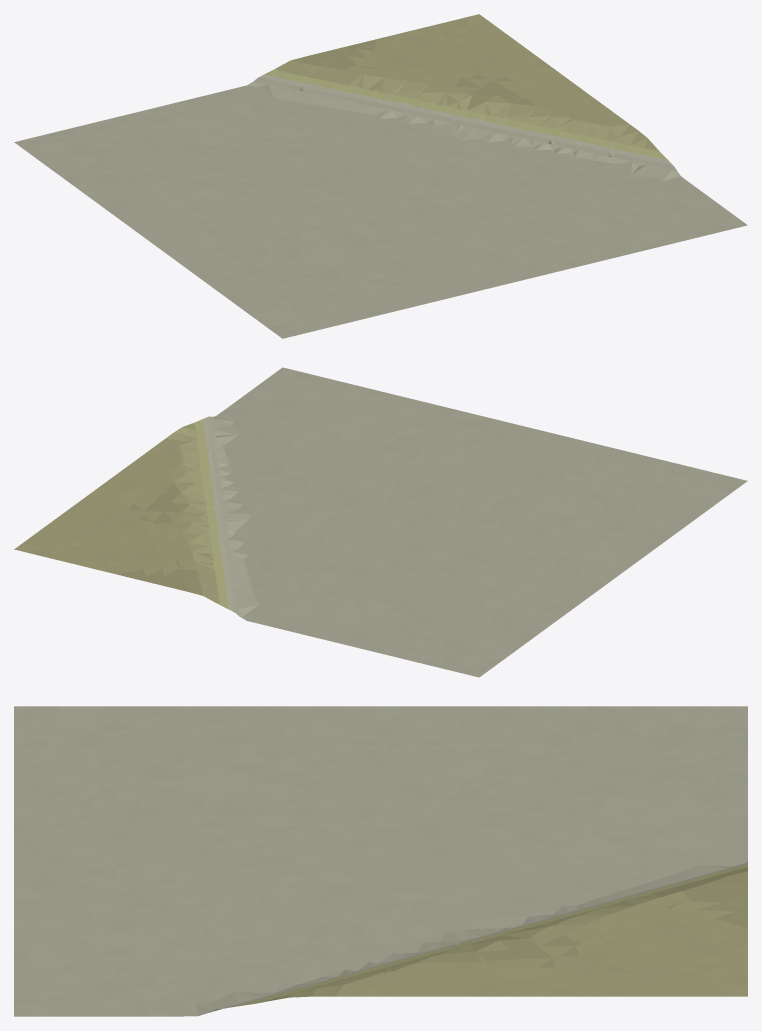
The model's file is Ground_-5_-5.glb.
3 renders of one model, top to bottom at view 1: azimuth 30°, elevation 25°; view 2: azimuth 150°, elevation 25°; view 3: azimuth 270°, elevation 25°, orthographic. The views are drawn at different scales.
Parts seen in each view (by area): view 1: Ground_-5_-5; view 2: Ground_-5_-5; view 3: Ground_-5_-5.
Boxes of the visible parts, x1,y1,x2,y2 form: Ground_-5_-5: (14, 14, 747, 338); Ground_-5_-5: (14, 367, 747, 677); Ground_-5_-5: (14, 706, 747, 1016).
Bounding box in the file's own units: 768 × 23 × 768.
